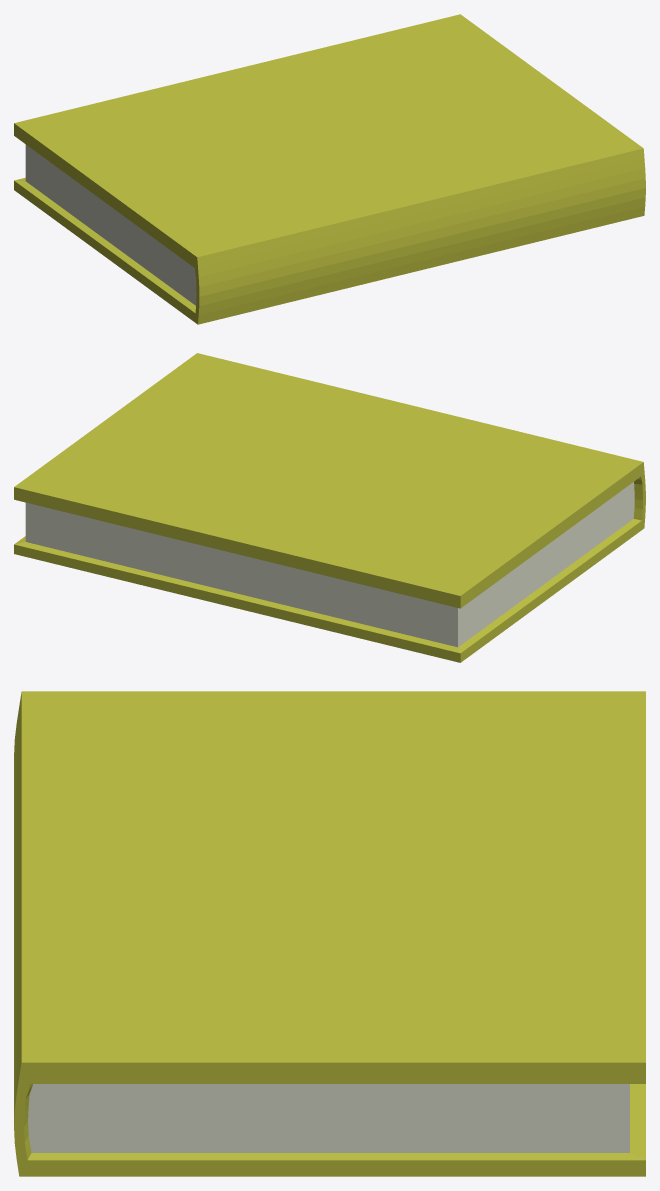
Rendered from Closed_book.fbx.
The picture shows the model from 3 angles, top to bottom: view 1: azimuth 30°, elevation 25°; view 2: azimuth 150°, elevation 25°; view 3: azimuth 270°, elevation 25°; orthographic projection. The views are drawn at different scales.
Visible parts, largest first — view 1: Closed Book; view 2: Closed Book; view 3: Closed Book.
Boxes of the visible parts, bbox=[...] form: Closed Book: bbox=[14, 14, 645, 324]; Closed Book: bbox=[14, 353, 645, 662]; Closed Book: bbox=[14, 691, 645, 1176].
Size of the model in its own units: 345 by 49.39 by 248.
